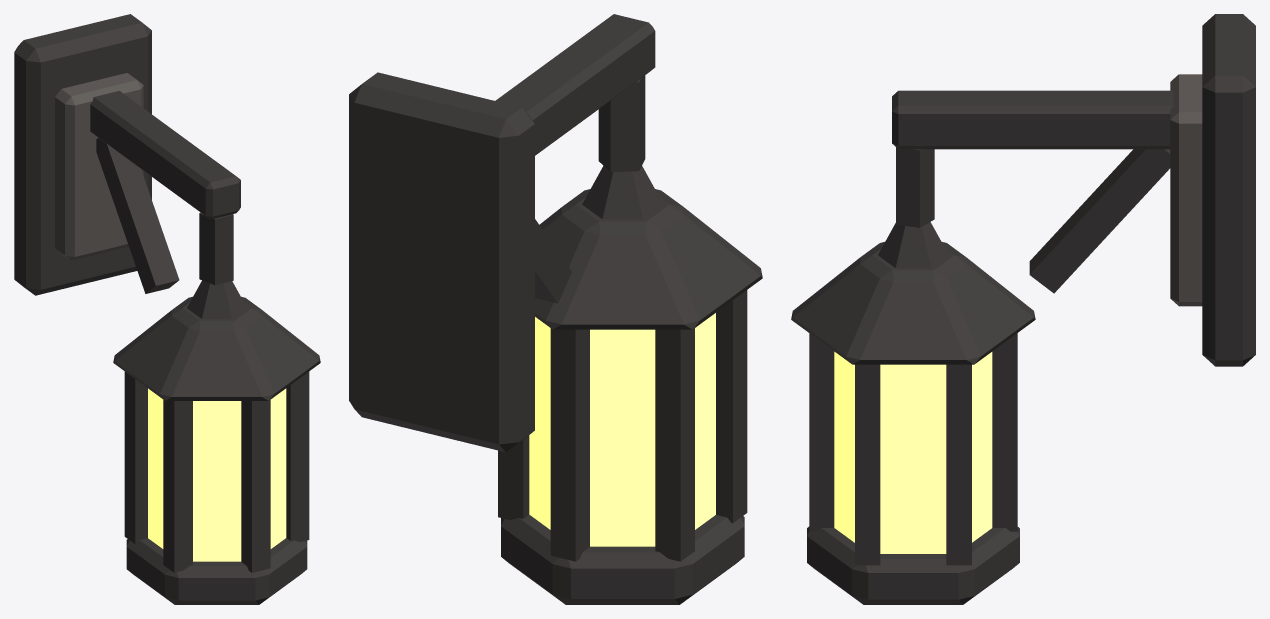
The model's file is wall_lantern.glb.
3 renders of one model, left to right at view 1: azimuth 30°, elevation 25°; view 2: azimuth 150°, elevation 25°; view 3: azimuth 270°, elevation 25°, orthographic. The views are drawn at different scales.
Parts seen in each view (by area): view 1: wall_lantern; view 2: wall_lantern; view 3: wall_lantern.
Boxes of the visible parts, bbox=[...] form: wall_lantern: bbox=[14, 14, 320, 604]; wall_lantern: bbox=[349, 14, 762, 604]; wall_lantern: bbox=[791, 14, 1255, 604].
Size of the model in its own units: 0.2027 by 0.54 by 0.4343.
